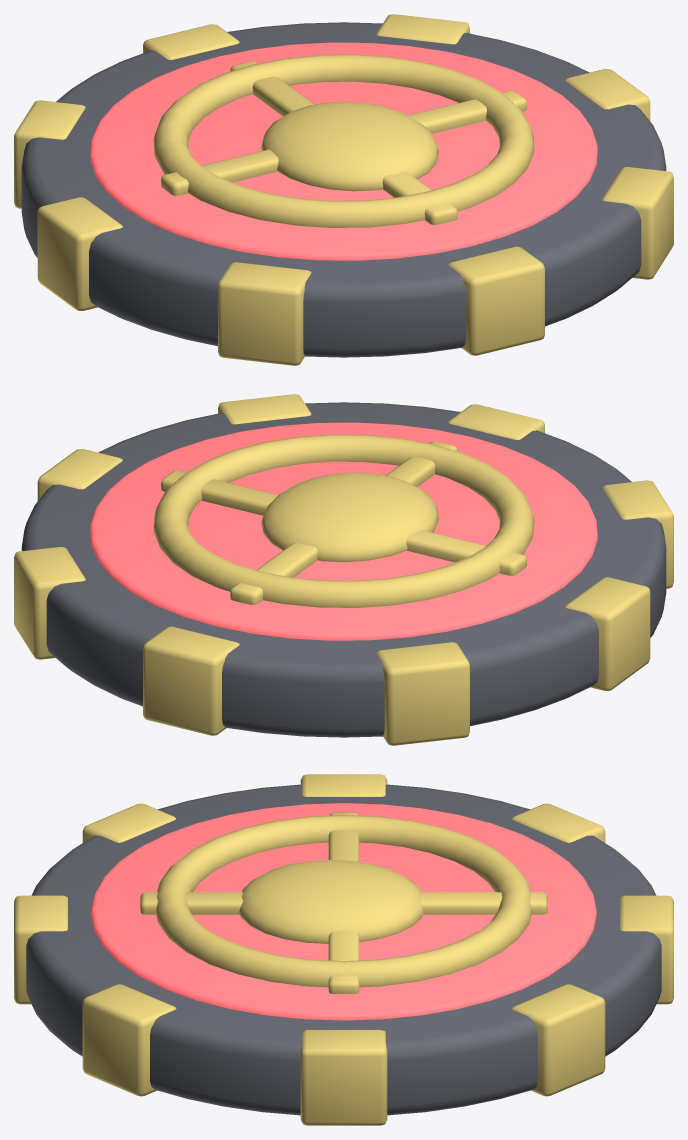
The model's file is aim_token.glb.
The picture shows the model from 3 angles, top to bottom: view 1: azimuth 30°, elevation 25°; view 2: azimuth 150°, elevation 25°; view 3: azimuth 270°, elevation 25°; orthographic projection.
Parts seen in each view (by area): view 1: AimCoinRim, TopFaceOpponent, CrosshairRing, Sphere, EdgeStripe_5, EdgeStripe_6, EdgeStripe_4, EdgeStripe_7, Cube, Cube.001, EdgeStripe_3, EdgeStripe_0 (+2 smaller); view 2: AimCoinRim, TopFaceOpponent, CrosshairRing, Sphere, EdgeStripe_3, EdgeStripe_2, EdgeStripe_4, EdgeStripe_1, Cube, Cube.001, EdgeStripe_5, EdgeStripe_0 (+2 smaller); view 3: AimCoinRim, TopFaceOpponent, CrosshairRing, Sphere, EdgeStripe_0, EdgeStripe_1, EdgeStripe_7, Cube.001, EdgeStripe_2, EdgeStripe_6, Cube, EdgeStripe_3 (+2 smaller).
Part boxes in pixels (x1,y1,x2,y2): AimCoinRim: [21, 22, 666, 357]; TopFaceOpponent: [90, 42, 597, 260]; CrosshairRing: [153, 54, 534, 227]; Sphere: [261, 101, 438, 191]; EdgeStripe_5: [218, 262, 311, 365]; EdgeStripe_6: [448, 246, 544, 355]; EdgeStripe_4: [37, 197, 122, 310]; EdgeStripe_7: [602, 166, 673, 279]; Cube: [161, 90, 526, 195]; Cube.001: [230, 61, 457, 224]; EdgeStripe_3: [14, 100, 85, 208]; EdgeStripe_0: [565, 69, 650, 120]; AimCoinRim: [21, 402, 666, 737]; TopFaceOpponent: [90, 422, 597, 640]; CrosshairRing: [153, 434, 534, 607]; Sphere: [261, 472, 438, 562]; EdgeStripe_3: [376, 642, 469, 745]; EdgeStripe_2: [143, 626, 239, 735]; EdgeStripe_4: [565, 577, 650, 690]; EdgeStripe_1: [14, 546, 85, 659]; Cube: [161, 470, 526, 575]; Cube.001: [230, 441, 457, 604]; EdgeStripe_5: [602, 480, 673, 588]; EdgeStripe_0: [37, 449, 122, 500]; AimCoinRim: [26, 784, 661, 1115]; TopFaceOpponent: [91, 803, 596, 1020]; CrosshairRing: [155, 815, 532, 987]; Sphere: [239, 860, 424, 943]; EdgeStripe_0: [300, 1029, 387, 1125]; EdgeStripe_1: [511, 984, 605, 1096]; EdgeStripe_7: [82, 984, 176, 1096]; Cube.001: [140, 892, 547, 914]; EdgeStripe_2: [620, 895, 673, 1004]; EdgeStripe_6: [14, 895, 67, 1004]; Cube: [328, 812, 359, 993]; EdgeStripe_3: [511, 803, 605, 842].
Size of the model in its own units: 1.07 by 0.233 by 1.07.
